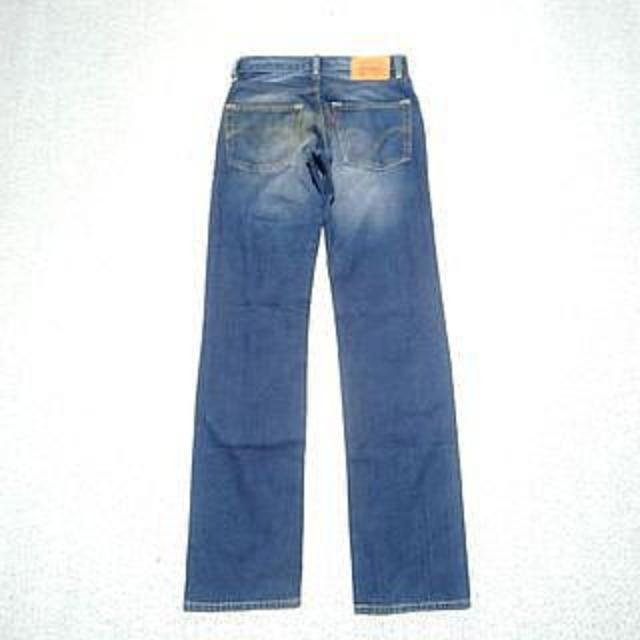TROUSER: (171, 30, 482, 622)
